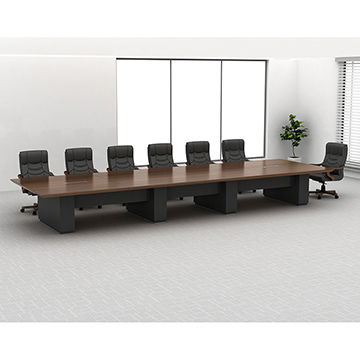conference_table: (10, 160, 326, 234)
